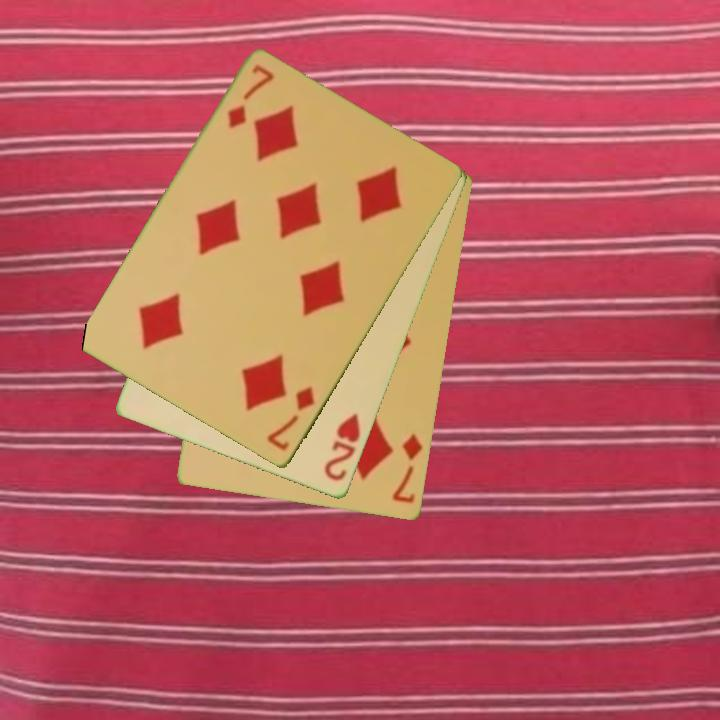2h: (321, 410, 364, 485)
7d: (263, 383, 318, 454), (224, 61, 277, 132), (389, 430, 426, 507)
